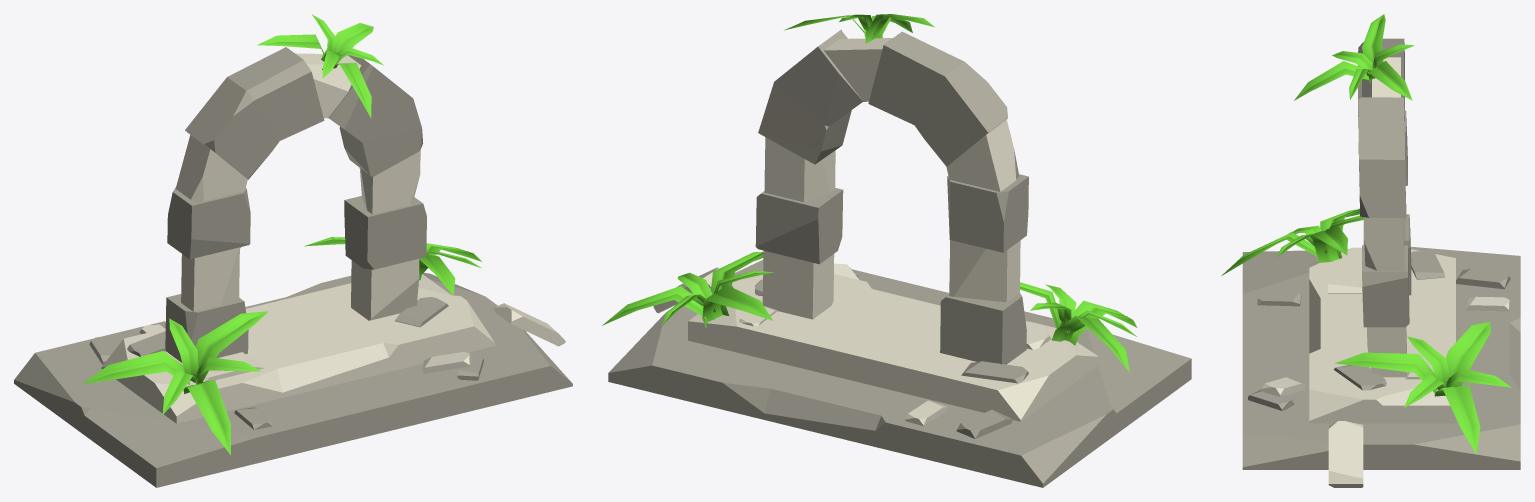
The model's file is Portal.glb.
The picture shows the model from 3 angles, left to right: view 1: azimuth 30°, elevation 25°; view 2: azimuth 150°, elevation 25°; view 3: azimuth 270°, elevation 25°; orthographic projection. The views are drawn at different scales.
Visible parts, largest first — view 1: Portal; view 2: Portal; view 3: Portal.
Part boxes in pixels (left/top/right/bottom): Portal: left=14, top=14, right=572, bottom=487; Portal: left=602, top=14, right=1191, bottom=487; Portal: left=1221, top=14, right=1520, bottom=487.
Size of the model in its own units: 7.1 by 5.2 by 4.1.
